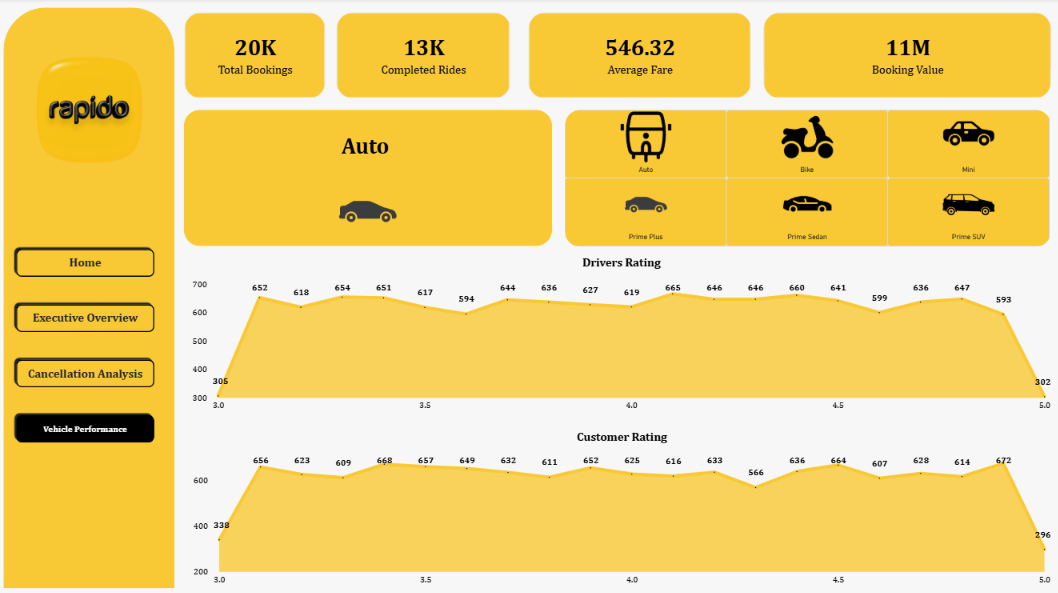

This screenshot's page, from the dashboard's own definition file:
{"tool":"powerbi","page":{"name":"Vehicle Performance","canvas":[1920,1080],"ordinal":3},"visuals":[{"type":"shape","box":[9,16.3,309.5,1051.4],"z":1000,"group":"g2"},{"type":"cardVisual","fields":{"Data":["_Measures.Total_Bookings"]},"box":[336.2,25,255.2,155.6],"z":1000},{"type":"cardVisual","fields":{"Data":["_Measures.Completed_Rides"]},"box":[611.7,25.3,314.9,155.6],"z":2000},{"type":"cardVisual","fields":{"Data":["_Measures.Booking_Value"]},"box":[1384.4,25.3,521.2,155.6],"z":3000},{"type":"cardVisual","fields":{"Data":["_Measures.Avg_Fare"]},"box":[959.1,25.3,403.6,155.6],"z":4000},{"type":"image","box":[9,59.7,311.3,284.1],"z":4000,"group":"g2"},{"type":"advancedSlicerVisual","fields":{"Values":["Rapido.V_Type"]},"box":[1024.3,200.9,881.3,249.7],"z":5000},{"type":"pageNavigator","box":[27,448.3,260.6,360.1],"z":5000,"group":"g2"},{"type":"group","id":"g1","title":"Group 2","box":[334.7,201.1,667.8,247.9],"z":6000},{"type":"cardVisual","fields":{"Data":["Min(Rapido.Vehicle Images)"]},"box":[334.7,201.1,667.8,247.9],"z":6000,"group":"g1"},{"type":"lineChart","title":"Customer Rating","fields":{"Y":["CountNonNull(Rapido.Booking_ID)"],"Category":["Rapido.Customer_Rating"]},"box":[336.6,765.5,1583.5,314.9],"z":7000},{"type":"cardVisual","fields":{"Data":["Min(Rapido.Vehicle_Type)"]},"box":[401.6,219.1,524.8,91.4],"z":8000,"group":"g1"},{"type":"lineChart","title":"Drivers Rating","fields":{"Y":["CountNonNull(Rapido.Booking_ID)"],"Category":["Rapido.Driver_Ratings"]},"box":[334.8,450.6,1585.3,314.9],"z":8000},{"type":"group","id":"g2","title":"Group 1","box":[9,16.3,311.3,1051.4],"z":8001}]}

Visuals, with their boxes in screenshot pixels (x1, y1, x2, y2), scaled from the page's 1920x1080 canvas onto the 1058x593 screenshot:
shape: bbox(5, 9, 176, 586)
cardVisual - _Measures.Total_Bookings: bbox(185, 14, 326, 99)
cardVisual - _Measures.Completed_Rides: bbox(337, 14, 511, 99)
cardVisual - _Measures.Booking_Value: bbox(763, 14, 1050, 99)
cardVisual - _Measures.Avg_Fare: bbox(529, 14, 751, 99)
image: bbox(5, 33, 176, 189)
advancedSlicerVisual - Rapido.V_Type: bbox(564, 110, 1050, 247)
pageNavigator: bbox(15, 246, 158, 444)
"Group 2" group: bbox(184, 110, 552, 247)
cardVisual - Min(Rapido.Vehicle Images): bbox(184, 110, 552, 247)
"Customer Rating" lineChart: bbox(185, 420, 1057, 592)
cardVisual - Min(Rapido.Vehicle_Type): bbox(221, 120, 510, 170)
"Drivers Rating" lineChart: bbox(184, 247, 1057, 420)
"Group 1" group: bbox(5, 9, 176, 586)
